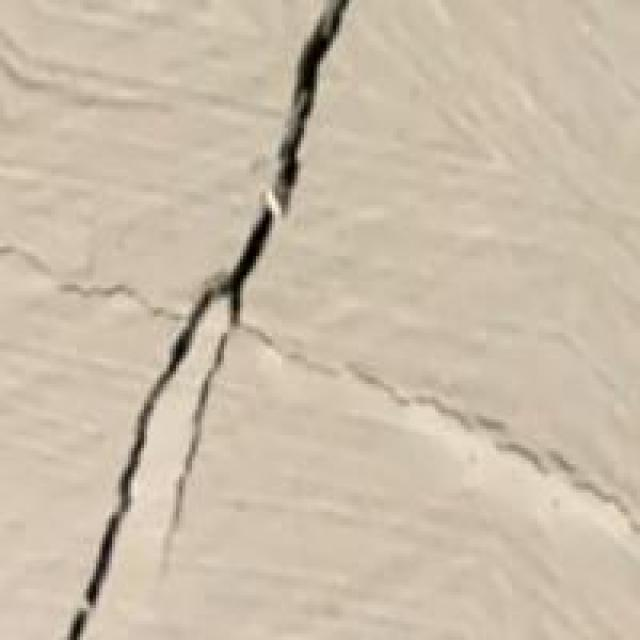crack: (58, 0, 342, 637)
